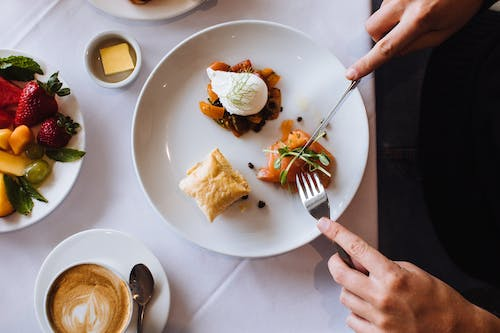knife: (294, 77, 363, 159)
